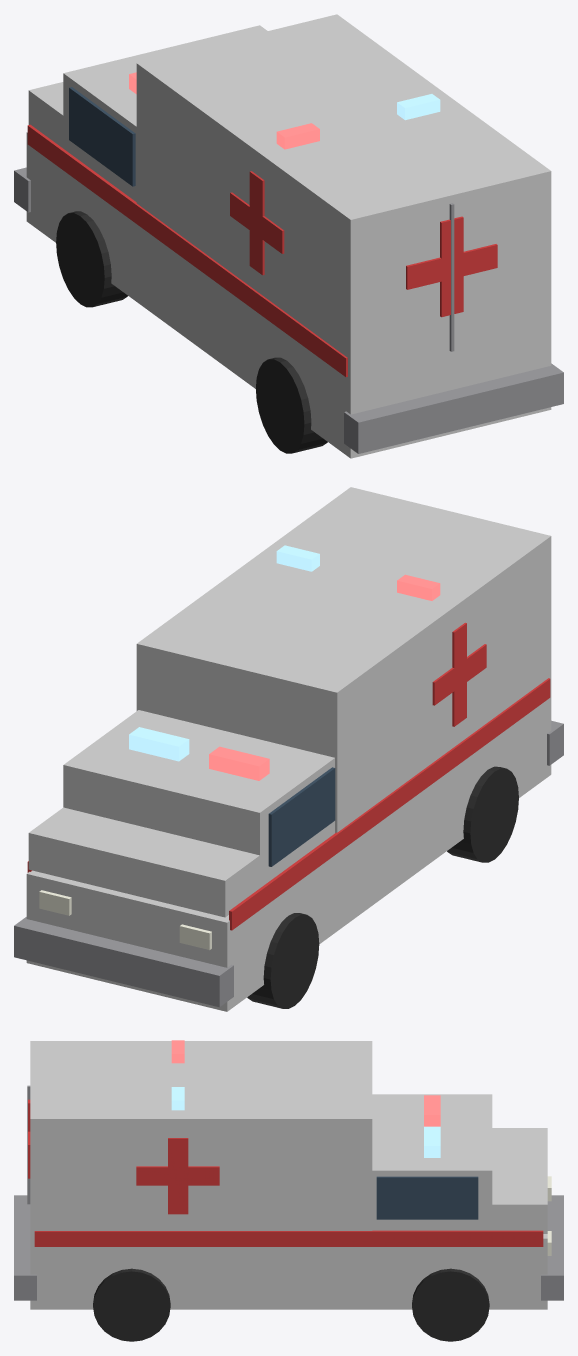
Rendered from Ambulance_1.fbx.
3 views of the same model, one above another, from view 1: azimuth 30°, elevation 25°; view 2: azimuth 150°, elevation 25°; view 3: azimuth 270°, elevation 25° (orthographic). The views are drawn at different scales.
Visible parts, largest first — view 1: Ambulance_CargoBox, Ambulance_Chassis, Ambulance_Bumper_R, Ambulance_StripeL, Ambulance_Cab, Ambulance_Wheel_FL, Ambulance_Wheel_RL, Ambulance_WinL, Ambulance_CrossH_Rear, Ambulance_Hood, Ambulance_CrossV_Rear, Ambulance_CrossH_L (+5 smaller); view 2: Ambulance_CargoBox, Ambulance_Chassis, Ambulance_Cab, Ambulance_Hood, Ambulance_Bumper_F, Ambulance_StripeL, Ambulance_Wheel_FL, Ambulance_Wheel_RL, Ambulance_WinL, Ambulance_LightBlue, Ambulance_LightRed, Ambulance_CrossH_L (+5 smaller); view 3: Ambulance_CargoBox, Ambulance_Chassis, Ambulance_Cab, Ambulance_StripeR, Ambulance_Hood, Ambulance_WinR, Ambulance_Wheel_FR, Ambulance_Wheel_RR, Ambulance_Bumper_R, Ambulance_Bumper_F, Ambulance_CrossH_R, Ambulance_CrossV_R (+2 smaller).
Part boxes in pixels (x1,y1,x2,y2): Ambulance_CargoBox: (136,14,551,382); Ambulance_Chassis: (26,132,551,458); Ambulance_Bumper_R: (344,363,563,453); Ambulance_StripeL: (27,124,347,377); Ambulance_Cab: (63,25,267,201); Ambulance_Wheel_FL: (56,211,127,307); Ambulance_Wheel_RL: (255,357,327,453); Ambulance_WinL: (69,87,135,186); Ambulance_CrossH_Rear: (406,244,497,289); Ambulance_Hood: (28,82,86,164); Ambulance_CrossV_Rear: (440,216,463,317); Ambulance_CrossH_L: (230,192,284,253); Ambulance_CargoBox: (136,487,551,854); Ambulance_Chassis: (26,686,551,1011); Ambulance_Cab: (63,710,334,879); Ambulance_Hood: (28,807,282,917); Ambulance_Bumper_F: (14,917,233,1007); Ambulance_StripeL: (229,678,550,930); Ambulance_Wheel_FL: (247,913,319,1008); Ambulance_Wheel_RL: (447,766,518,862); Ambulance_WinL: (268,767,335,866); Ambulance_LightBlue: (129,727,189,761); Ambulance_LightRed: (209,746,269,780); Ambulance_CrossH_L: (432,644,486,705); Ambulance_CargoBox: (30,1041,372,1248); Ambulance_Chassis: (30,1234,547,1309); Ambulance_Cab: (372,1094,492,1230); Ambulance_StripeR: (34,1230,543,1246); Ambulance_Hood: (480,1128,547,1233); Ambulance_WinR: (376,1176,478,1219); Ambulance_Wheel_FR: (412,1268,489,1341); Ambulance_Wheel_RR: (93,1268,170,1341); Ambulance_Bumper_R: (14,1195,36,1300); Ambulance_Bumper_F: (541,1195,563,1300); Ambulance_CrossH_R: (136,1166,219,1185); Ambulance_CrossV_R: (168,1138,188,1214).
Size of the model in its own units: 214 by 274 by 595.
